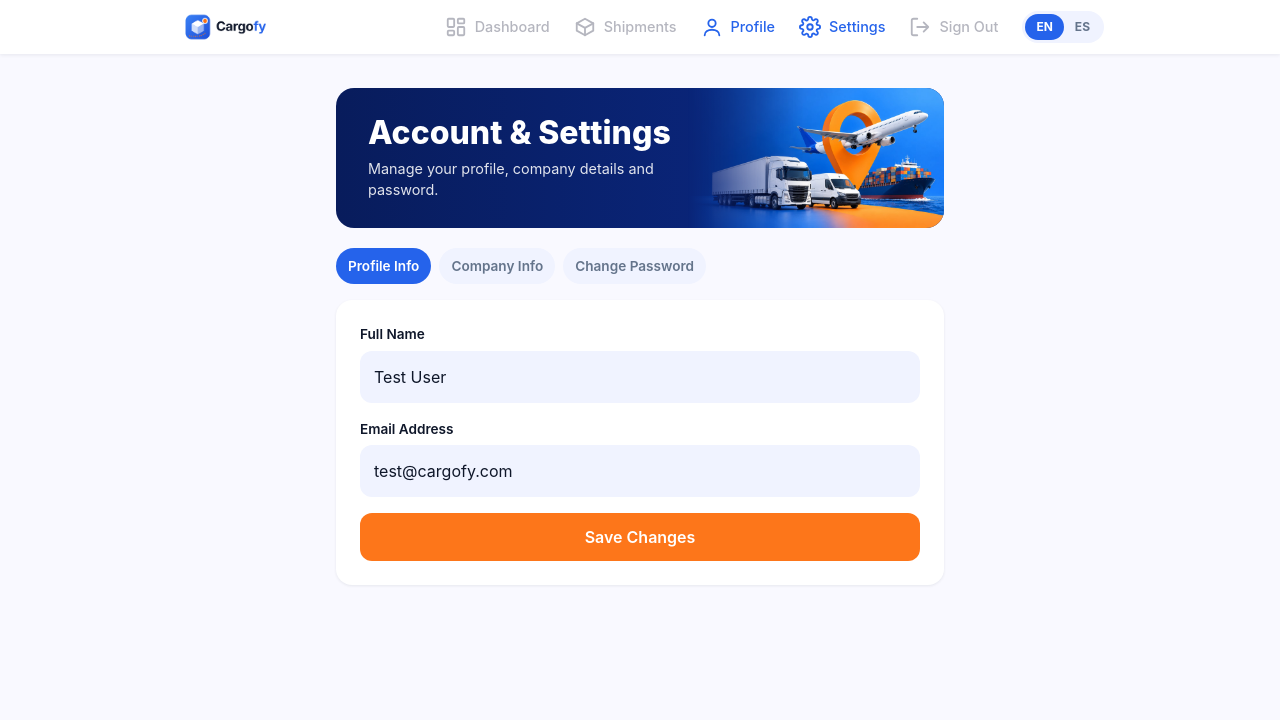
Test: AccountView › does not save an invalid email
This screenshot has width=1280, height=720.
Replace the text in the field with id "email" with "abc" at (640, 471), box [360,445,920,497]
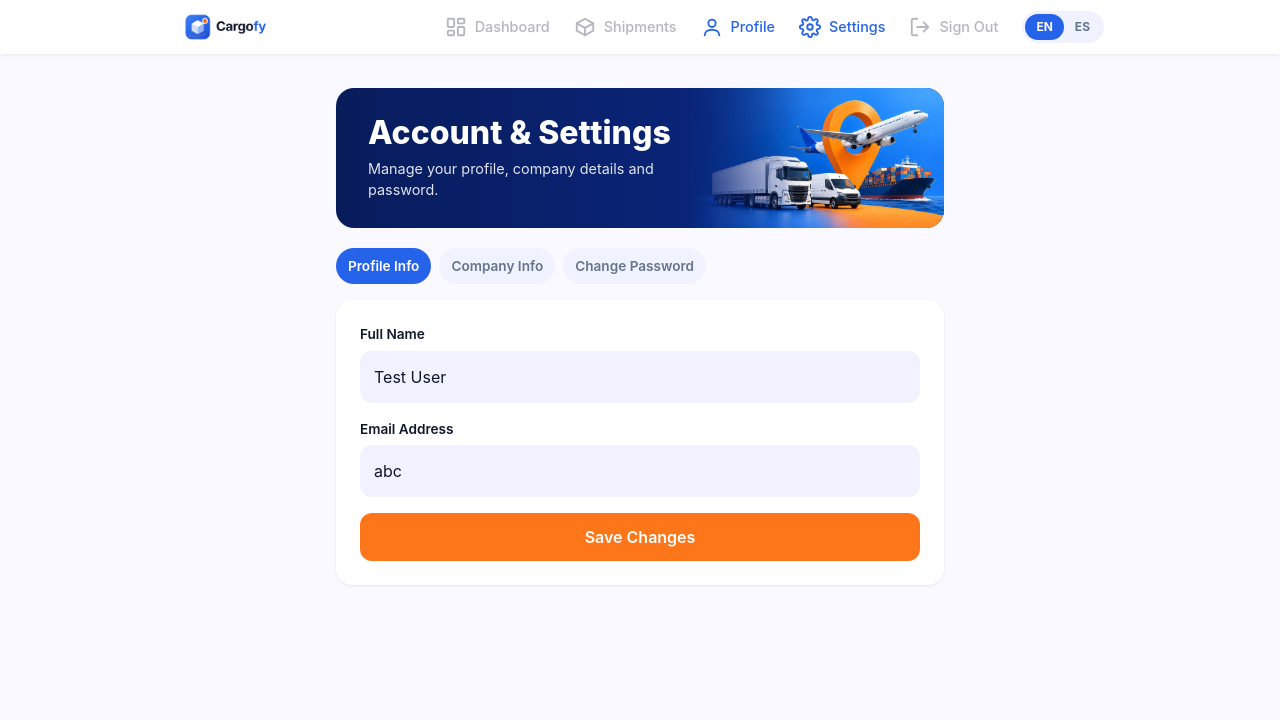
Submit the form, box [336,300,944,585]
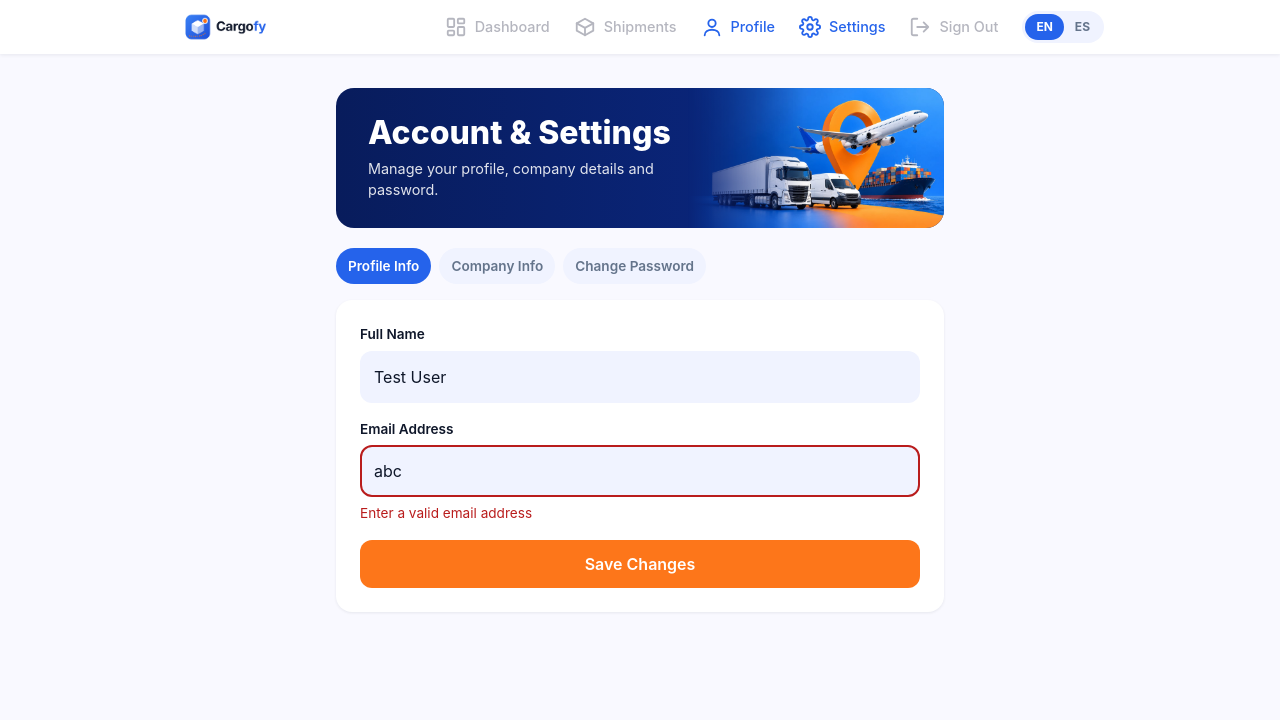
Result: the text "Enter a valid email address" is shown at [360,505,532,521]
